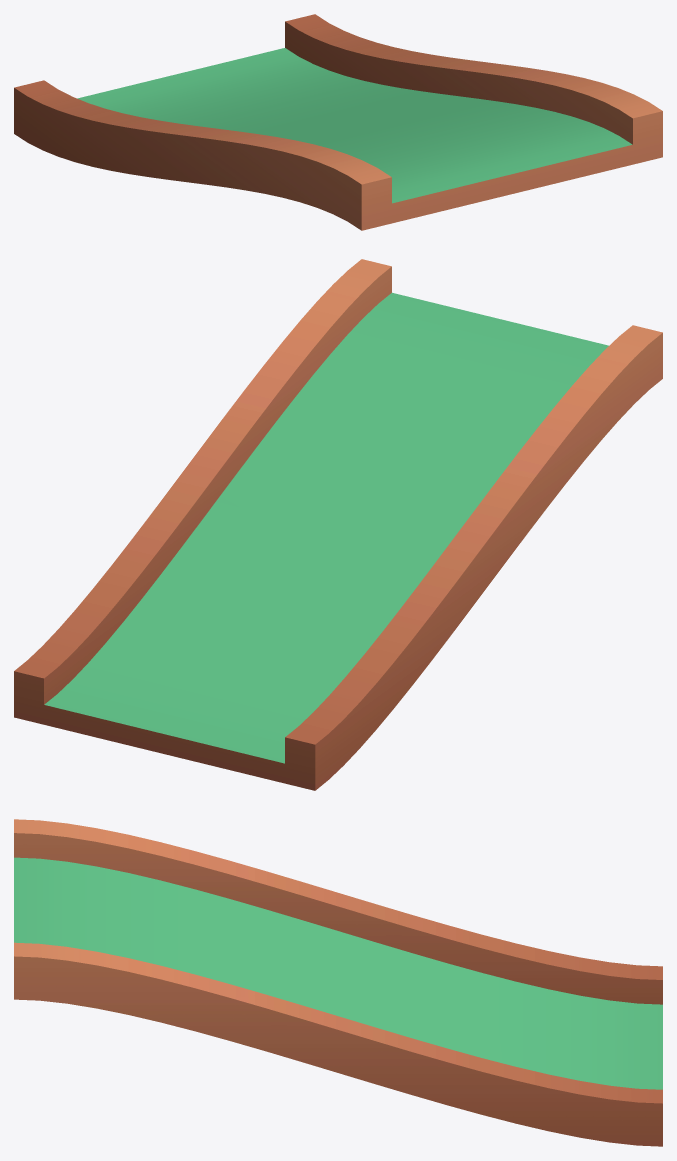
The model's file is ramp-large.glb.
3 views of the same model, one above another, from view 1: azimuth 30°, elevation 25°; view 2: azimuth 150°, elevation 25°; view 3: azimuth 270°, elevation 25° (orthographic). The views are drawn at different scales.
Visible parts, largest first — view 1: ramp-large; view 2: ramp-large; view 3: ramp-large.
Part boxes in pixels (<box>): ramp-large: <box>14,14,662,230</box>; ramp-large: <box>14,259,662,790</box>; ramp-large: <box>14,819,662,1146</box>.
Bounding box in the file's own units: 1 × 0.6467 × 2.
1 material, 1 textured.
